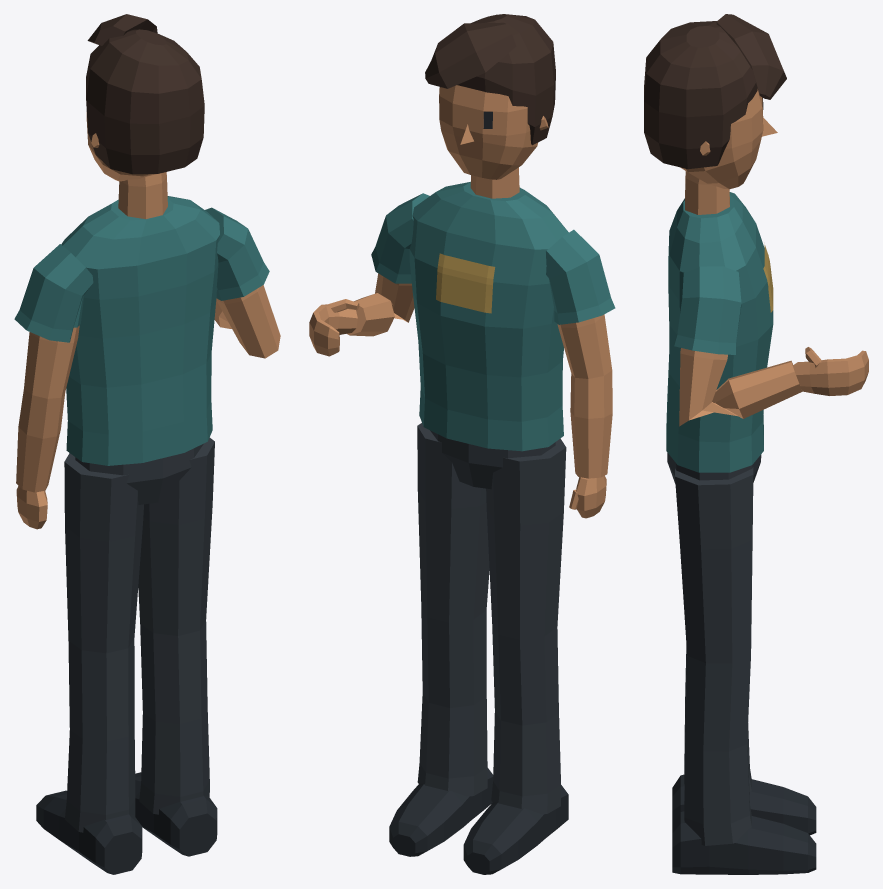
File: lwf_attendee_male_drink_hold_v2.glb
3 views of the same model, side by side, from view 1: azimuth 30°, elevation 25°; view 2: azimuth 150°, elevation 25°; view 3: azimuth 270°, elevation 25° (orthographic).
Parts seen in each view (by area): view 1: Attendee_male_drink_hold_v6; view 2: Attendee_male_drink_hold_v6; view 3: Attendee_male_drink_hold_v6.
Part boxes in pixels (x1=…): Attendee_male_drink_hold_v6: x1=14, y1=14, x2=280, y2=874; Attendee_male_drink_hold_v6: x1=309, y1=14, x2=615, y2=874; Attendee_male_drink_hold_v6: x1=644, y1=14, x2=868, y2=874.
Size of the model in its own units: 0.5591 by 1.78 by 0.439.
1 material, 1 textured.
